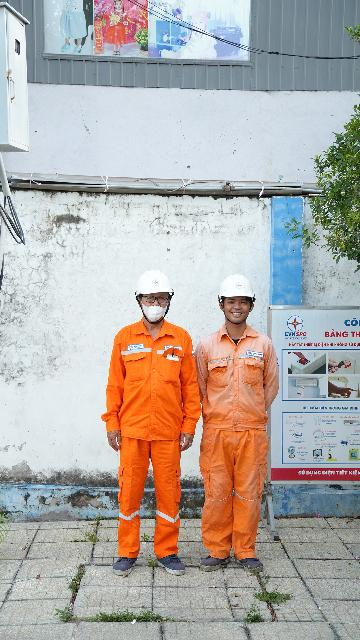helmet: (208, 269, 262, 302), (128, 264, 178, 299)
shoes: (191, 546, 225, 573), (153, 547, 181, 578), (236, 547, 261, 574), (110, 552, 136, 565)
